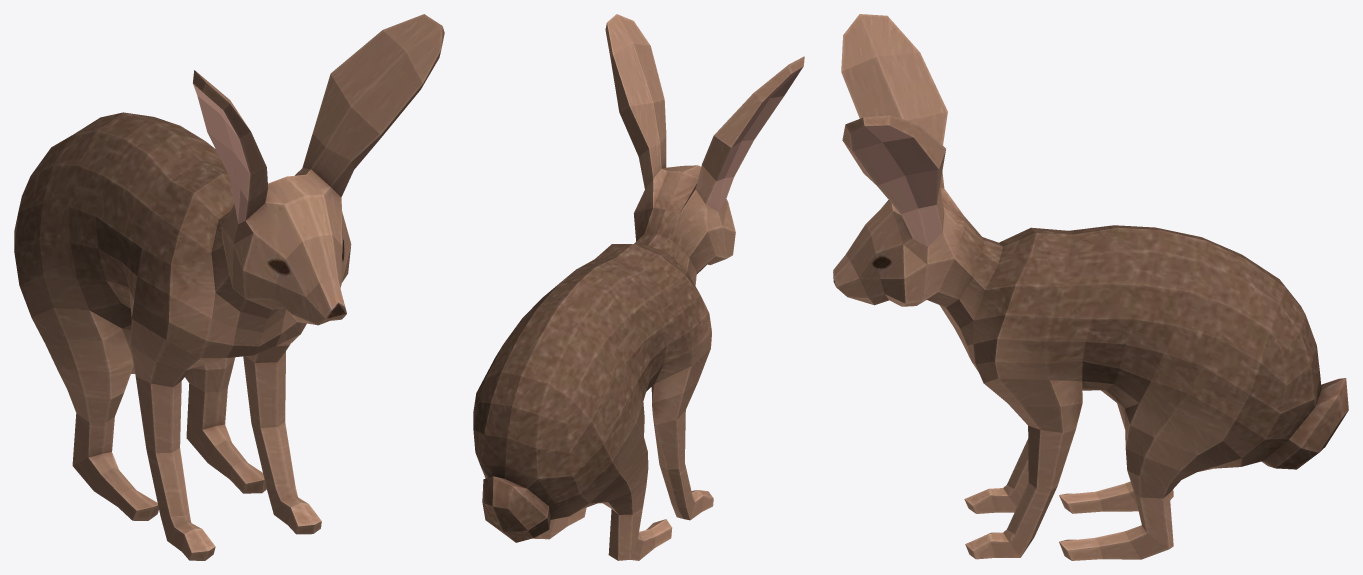
The model's file is biNOm96olTH.glb.
The picture shows the model from 3 angles, left to right: view 1: azimuth 30°, elevation 25°; view 2: azimuth 150°, elevation 25°; view 3: azimuth 270°, elevation 25°; orthographic projection. The views are drawn at different scales.
Parts seen in each view (by area): view 1: JackRabbit_mesh; view 2: JackRabbit_mesh; view 3: JackRabbit_mesh.
Part boxes in pixels (box(x1,y1,x2,y2)): JackRabbit_mesh: box(14, 14, 444, 560); JackRabbit_mesh: box(473, 14, 804, 560); JackRabbit_mesh: box(833, 14, 1348, 560).
Size of the model in its own units: 0.4709 by 1 by 0.9978.
1 material, 1 textured.
